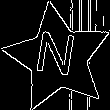N_S: (34, 30, 82, 86)
